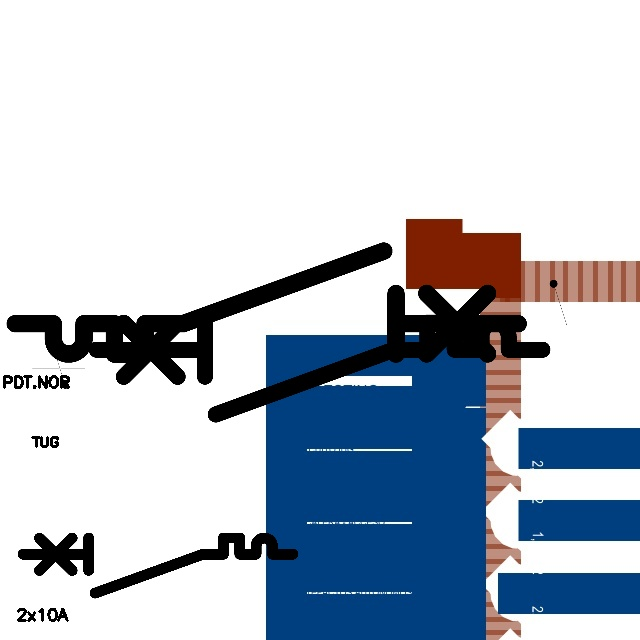interruptor_termomagnetico: (2, 238, 531, 367), (85, 311, 554, 426), (16, 531, 300, 600)
